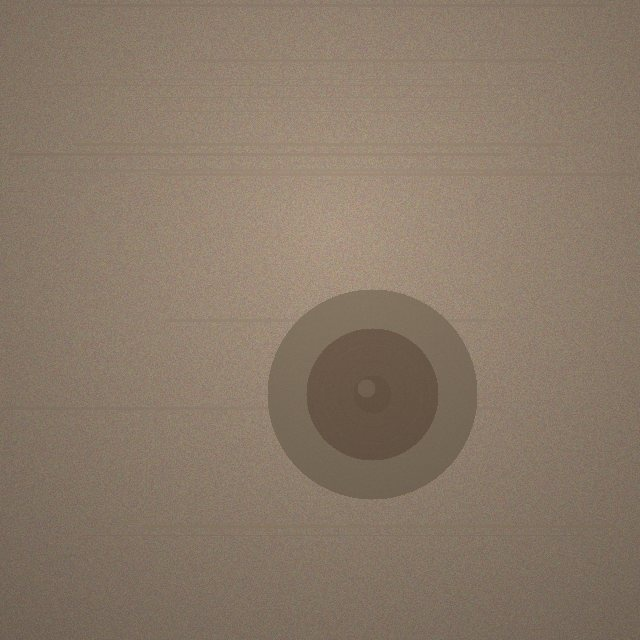good: (267, 289, 477, 499)
